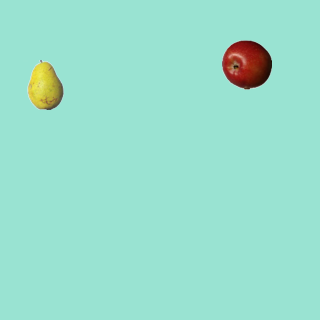Apple Braeburn: (221, 39, 271, 89)
Pear Monster: (20, 59, 70, 109)
